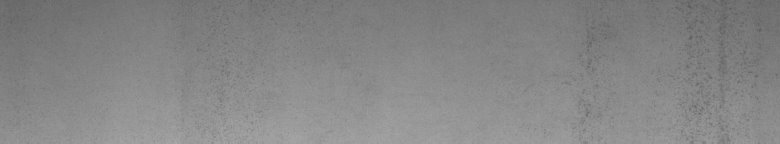ib: (689, 25, 761, 115)
